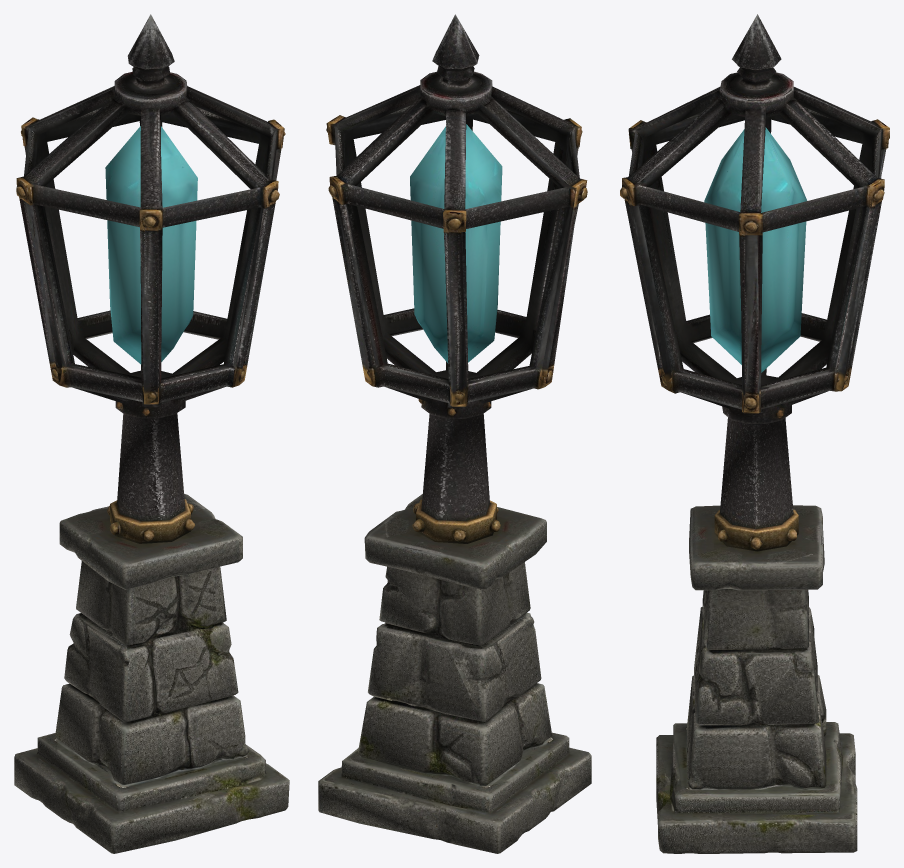
Rendered from tripo_convert_1916f80d-6c14-4ce4-b651-5ce4464cfa4c.fbx.
3 views of the same model, side by side, from view 1: azimuth 30°, elevation 25°; view 2: azimuth 150°, elevation 25°; view 3: azimuth 270°, elevation 25° (orthographic).
Visible parts, largest first — view 1: tripo_node_1916f80d; view 2: tripo_node_1916f80d; view 3: tripo_node_1916f80d.
Part boxes in pixels (<box>): tripo_node_1916f80d: <box>14,14,289,853</box>; tripo_node_1916f80d: <box>318,14,591,853</box>; tripo_node_1916f80d: <box>620,14,889,853</box>.
Size of the model in its own units: 0.3496 by 0.998 by 0.3066.
1 material, 1 textured.
